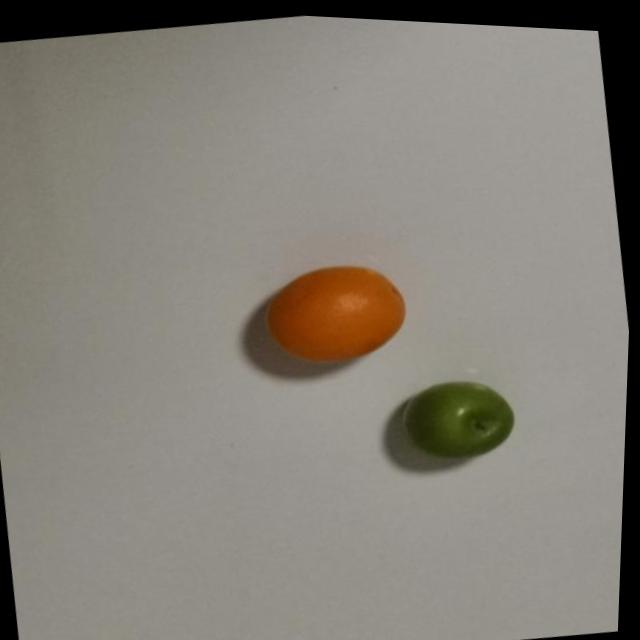Apple: (397, 362, 524, 460)
Orange: (258, 245, 426, 369)
